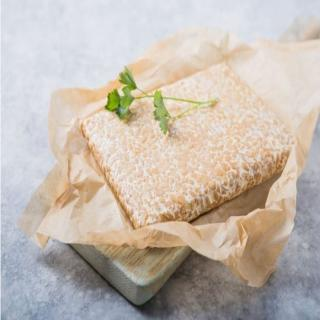Tempe: (19, 21, 320, 290)
